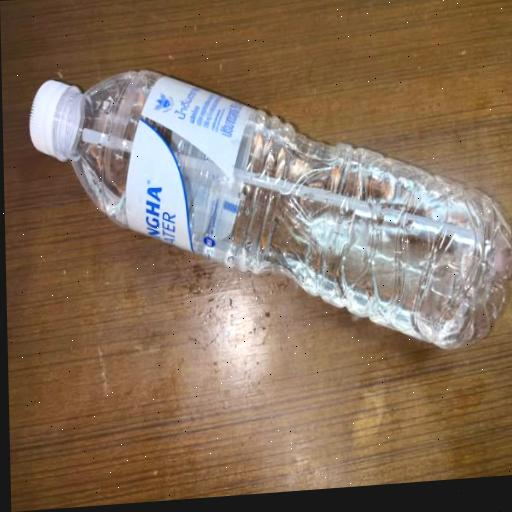bottle: (17, 2, 512, 413)
